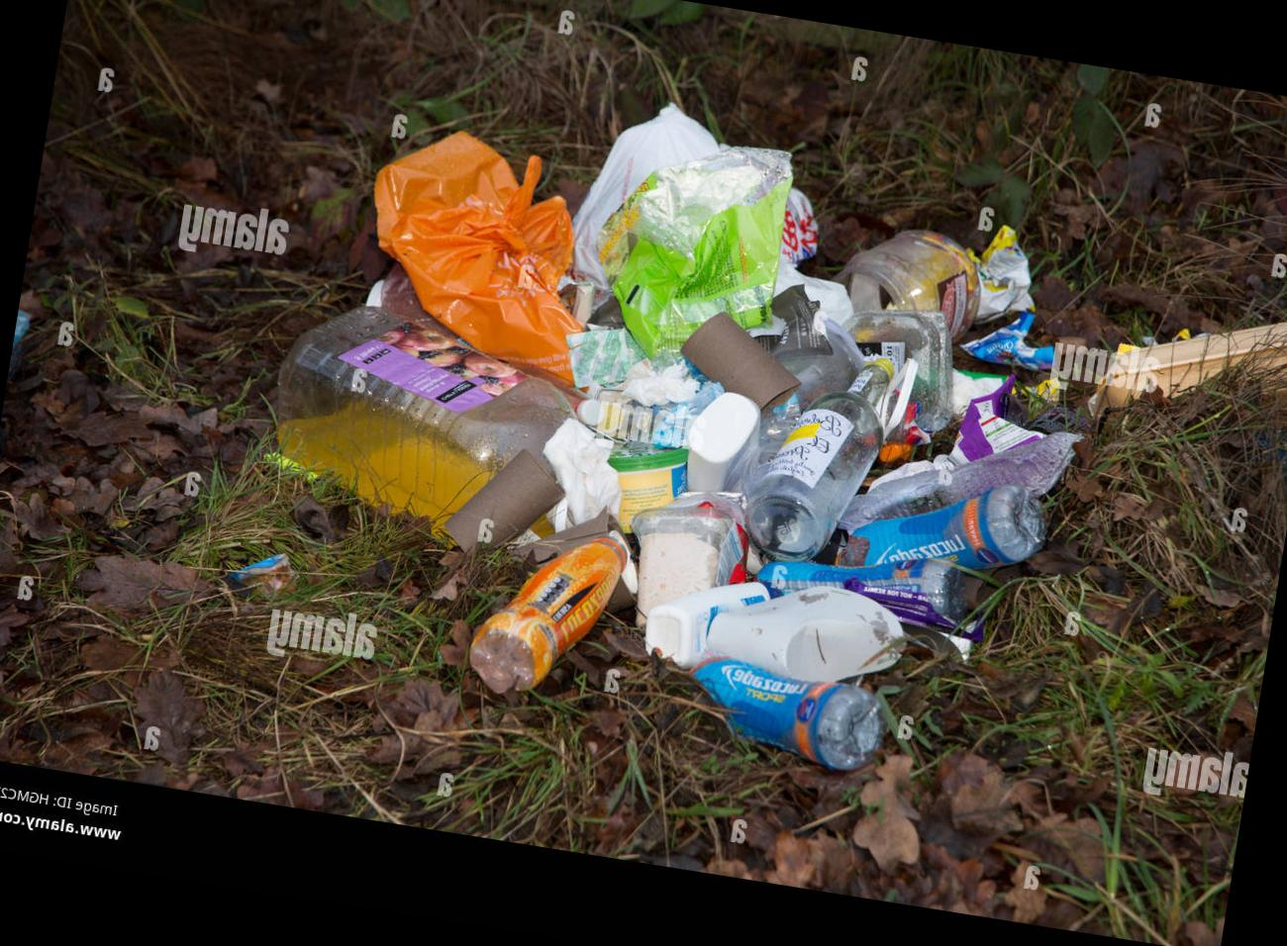trash: (196, 110, 1048, 743), (276, 306, 577, 524)
